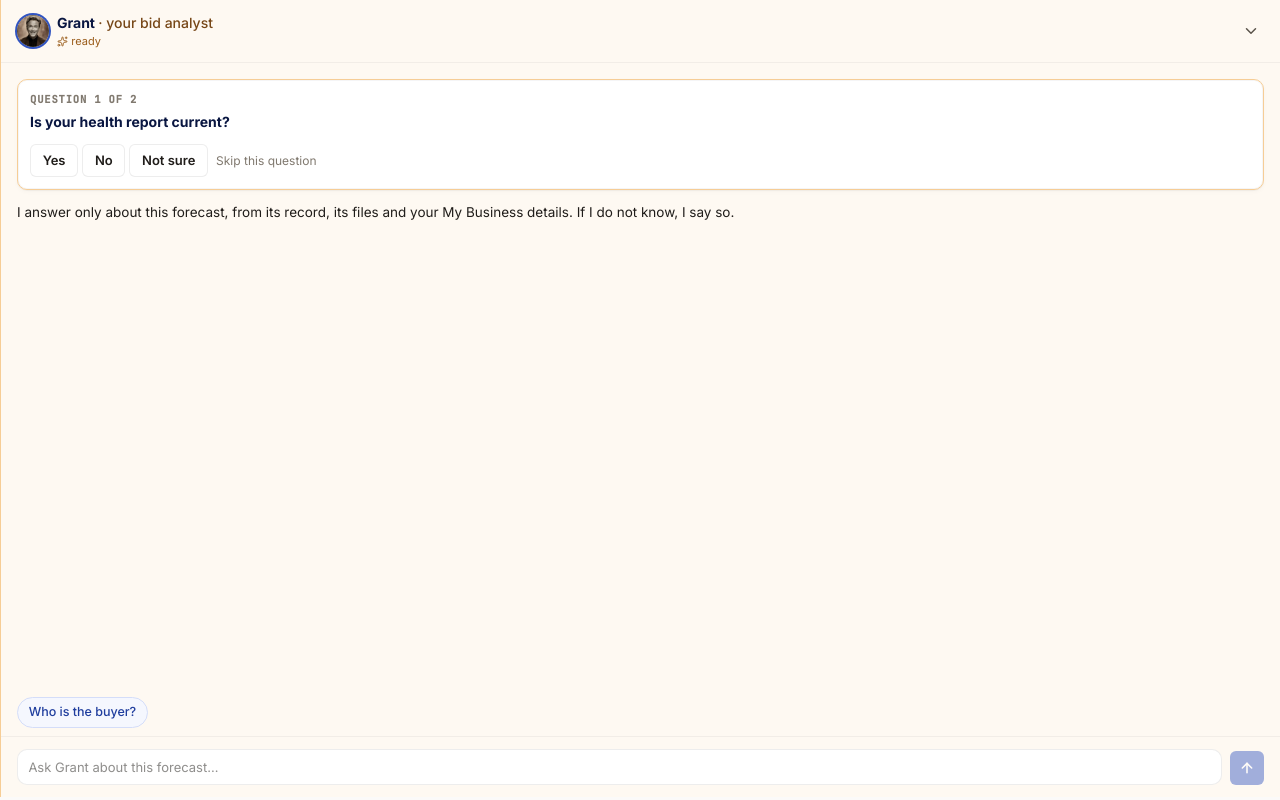
ForecastGrantRail — questions › says an answer back, reports the page change, and moves to the next question
Click the button "Yes": (54, 161) [30,144,78,178]
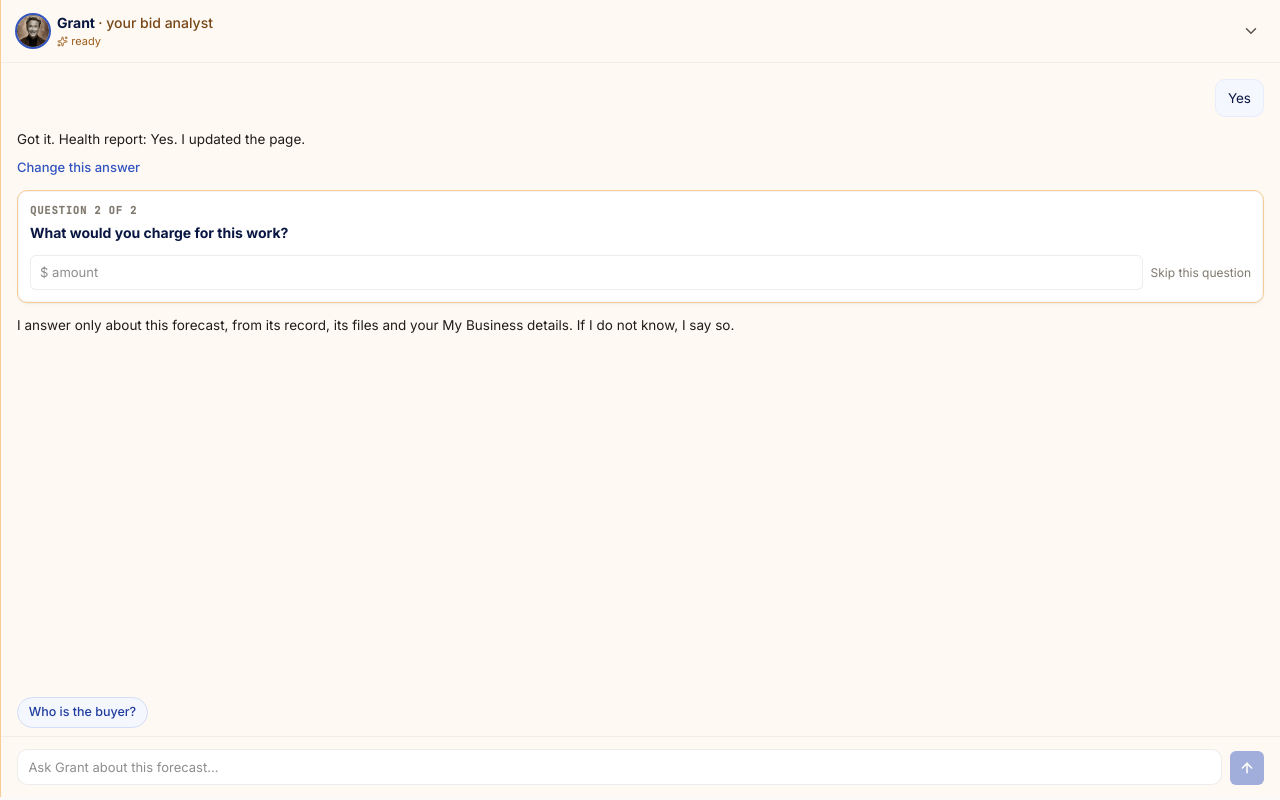
Now the element "What would you charge for this work?" is shown, box [17,190,1264,303]
